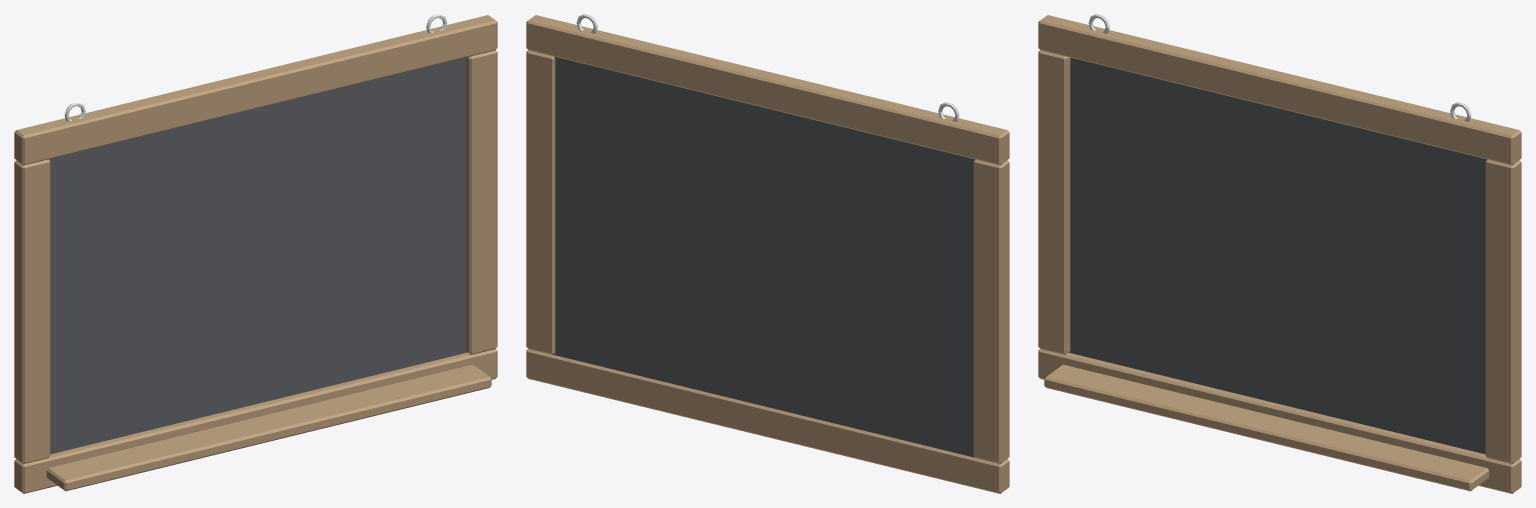
The model's file is bakery-and-cafe-menu-board-chalk-frame-9266135b__22224.glb.
3 views of the same model, side by side, from view 1: azimuth 30°, elevation 25°; view 2: azimuth 150°, elevation 25°; view 3: azimuth 330°, elevation 25° (orthographic).
Parts seen in each view (by area): view 1: menu-board-chalk-frame; view 2: menu-board-chalk-frame; view 3: menu-board-chalk-frame.
Boxes of the visible parts, x1=… form: menu-board-chalk-frame: x1=14, y1=14, x2=497, y2=493; menu-board-chalk-frame: x1=526, y1=14, x2=1009, y2=493; menu-board-chalk-frame: x1=1038, y1=14, x2=1521, y2=493.
Size of the model in its own units: 1 by 0.7529 by 0.1005.
